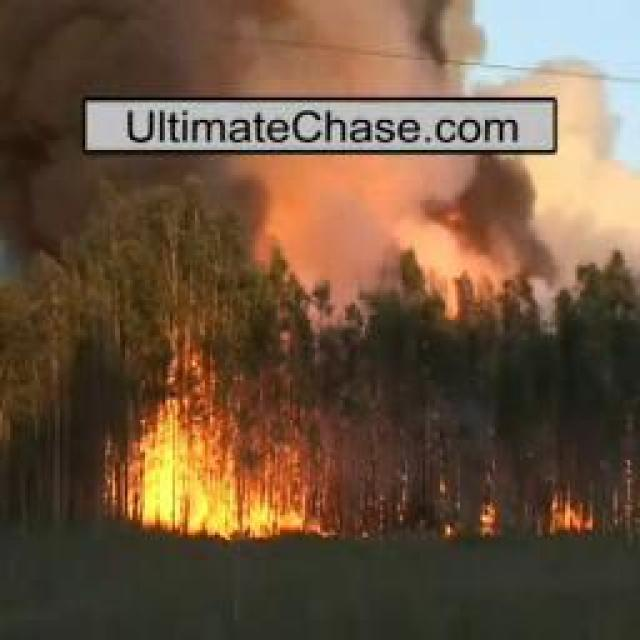Fire: (131, 380, 316, 538), (443, 480, 500, 542), (542, 496, 593, 534)
